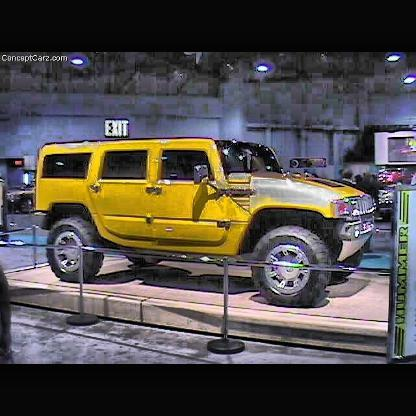AM General Hummer SUV 2000: (34, 135, 383, 309)
